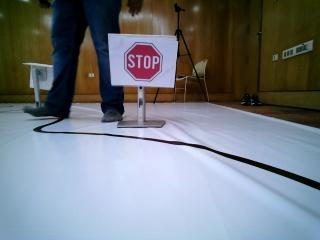stop: (108, 35, 172, 85)
